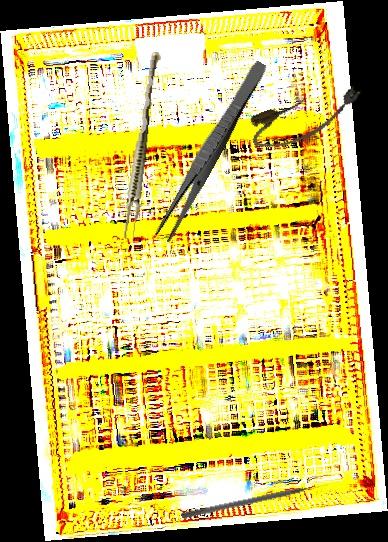Cannula: (244, 77, 371, 157)
Dressing Forceps: (152, 57, 270, 244)
Pusher: (180, 481, 330, 521)
Tissue Forceps: (121, 50, 162, 241)
